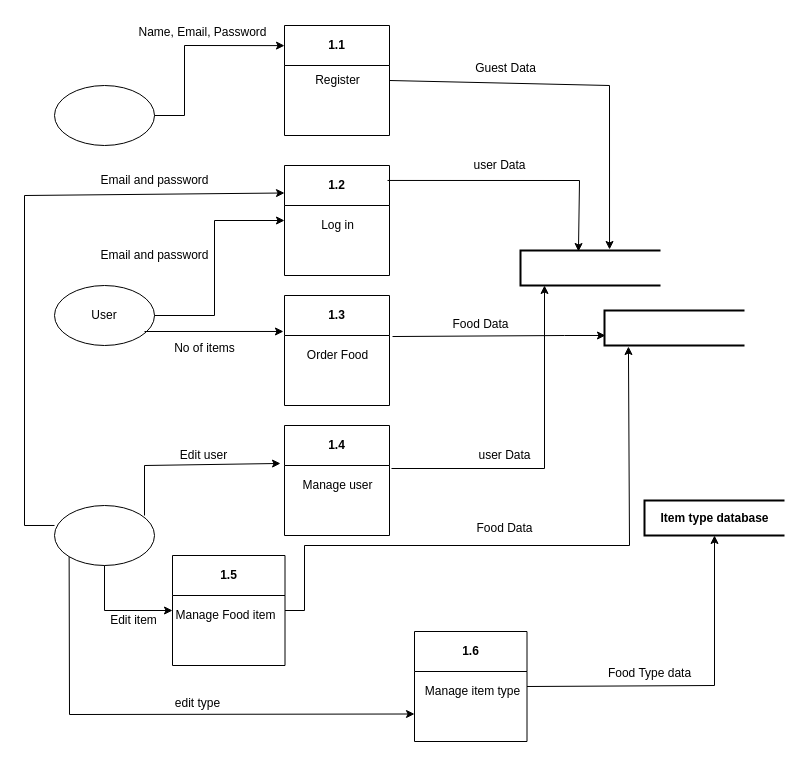
Some shapes in this 803 by 759 pixel diagram are drawn without their labels. Each missing label, with the centre of its shape:
"Admin" belongs at (104,535).
"Food Database" belongs at (674,327).
"Guest" belongs at (104,115).
"User Database" belongs at (590,267).
